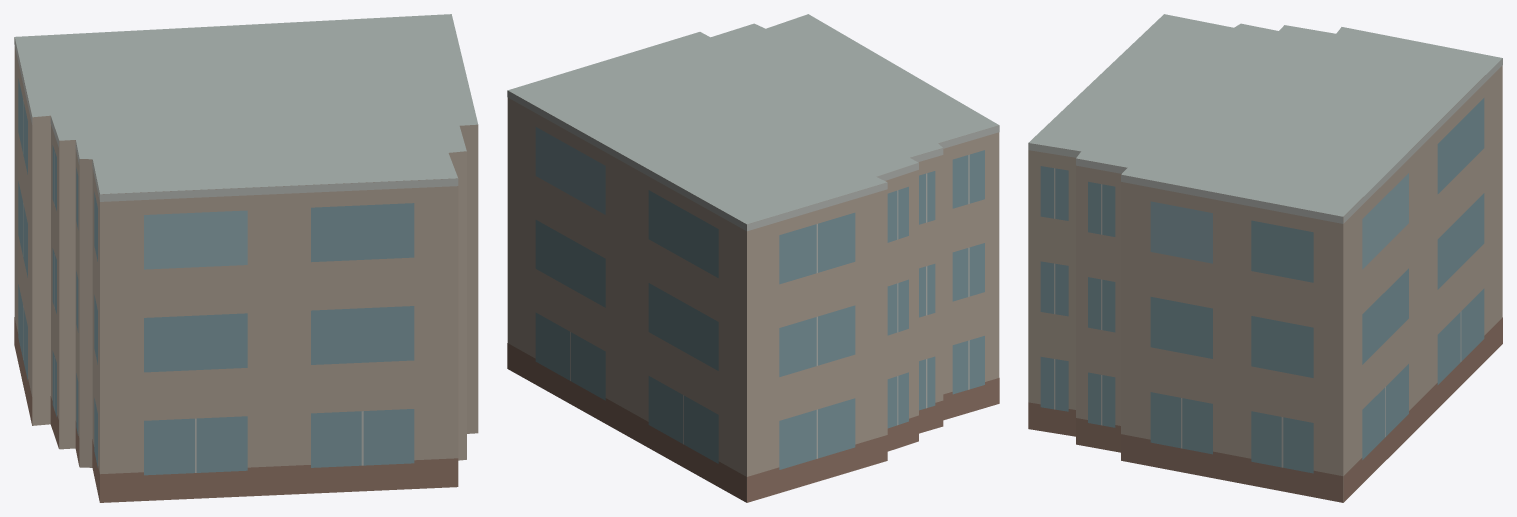
File: survey-upis-32652824.glb
3 views of the same model, side by side, from view 1: azimuth 30°, elevation 25°; view 2: azimuth 150°, elevation 25°; view 3: azimuth 270°, elevation 25° (orthographic). The views are drawn at different scales.
Visible parts, largest first — view 1: survey-upis-32652824.tmp; view 2: survey-upis-32652824.tmp; view 3: survey-upis-32652824.tmp.
Part boxes in pixels (x1,y1,x2,y2): survey-upis-32652824.tmp: [14, 14, 478, 502]; survey-upis-32652824.tmp: [507, 14, 999, 502]; survey-upis-32652824.tmp: [1028, 14, 1502, 502].
Bounding box in the file's own units: 14.76 × 9.7 × 14.59.
